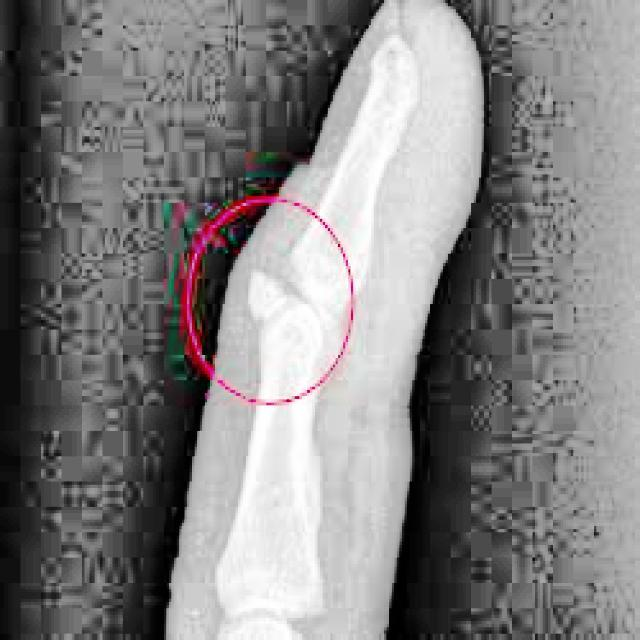Avlusion Fracture: (242, 258, 294, 332)
